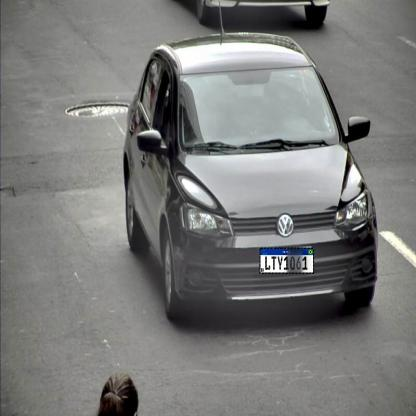PlacaM: (260, 247, 314, 274)
